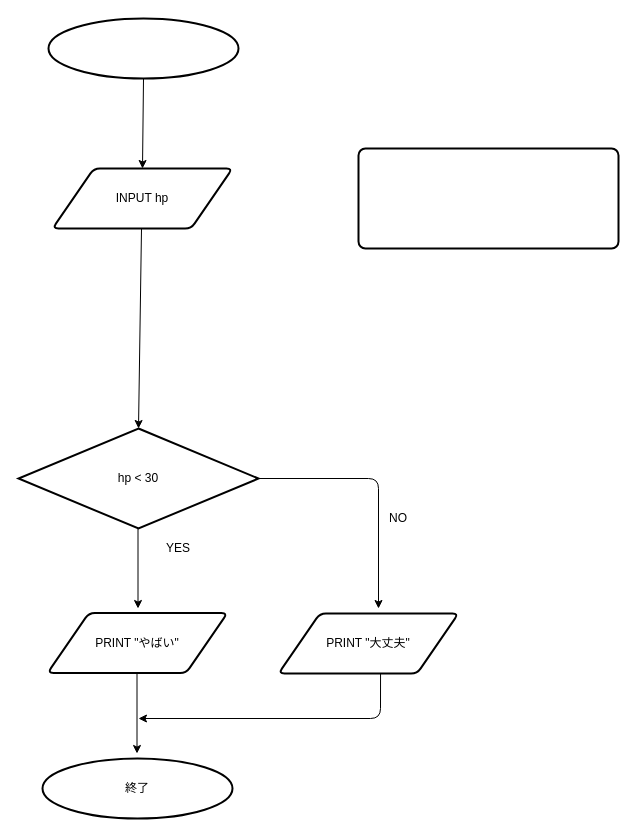
The diagram is 636 pixels wide and 836 high, and some of its shapes have lost their labels. The box of each missing label's shape, as (x1, y1, x2, y2) in pixels:
変数定義 hp: ヒットポイント: (357, 147, 619, 249)
開始: (47, 17, 239, 79)
